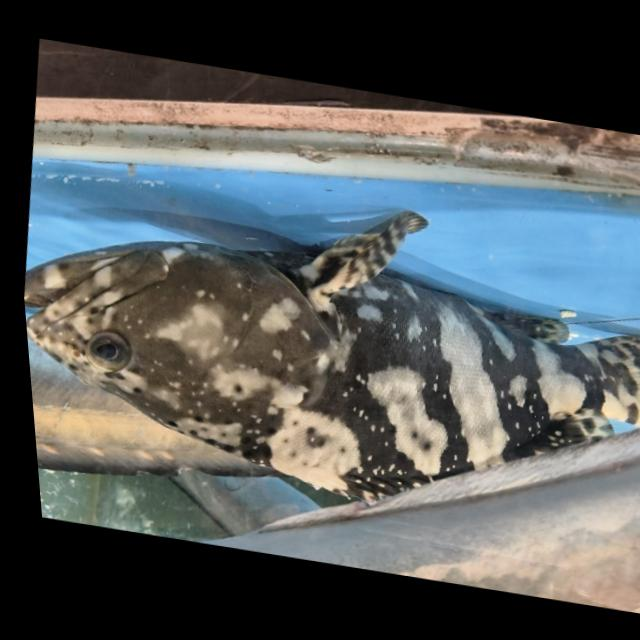Groupers: (12, 149, 640, 544)
